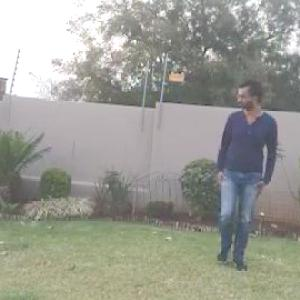follow: (212, 75, 272, 271)
